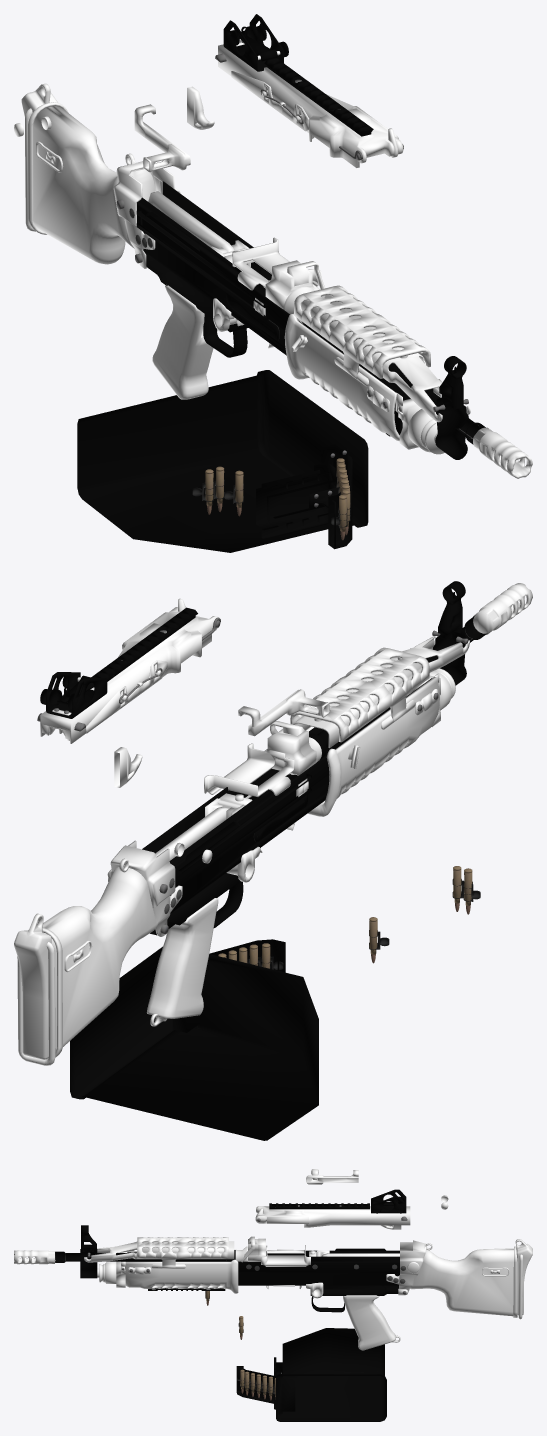
Rendered from Weapons_MK46_LOD0.glb.
The picture shows the model from 3 angles, top to bottom: view 1: azimuth 30°, elevation 25°; view 2: azimuth 150°, elevation 25°; view 3: azimuth 270°, elevation 25°; orthographic projection. The views are drawn at different scales.
Visible parts, largest first — view 1: Hoodie; view 2: Hoodie; view 3: Hoodie.
Boxes of the visible parts, box(x1,y1,x2,y2) form: Hoodie: box(14, 14, 532, 552); Hoodie: box(14, 581, 532, 1140); Hoodie: box(14, 1169, 532, 1421).
Size of the model in its own units: 0.2836 by 0.4467 by 0.9275.
Materials: 1 (1 with a texture image).
